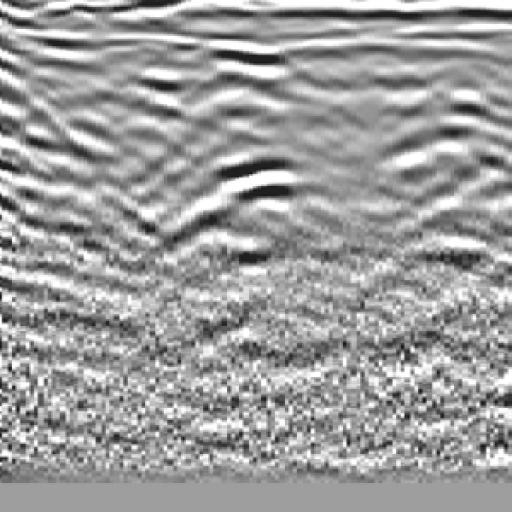metalic: (183, 35, 340, 263)
nonmetalic: (1, 43, 101, 281)
